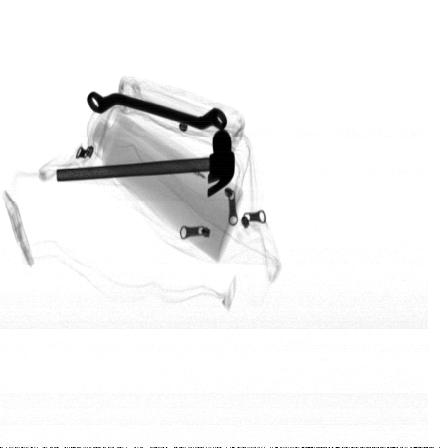Hammer: (53, 129, 235, 201)
Wrench: (87, 92, 228, 131)
